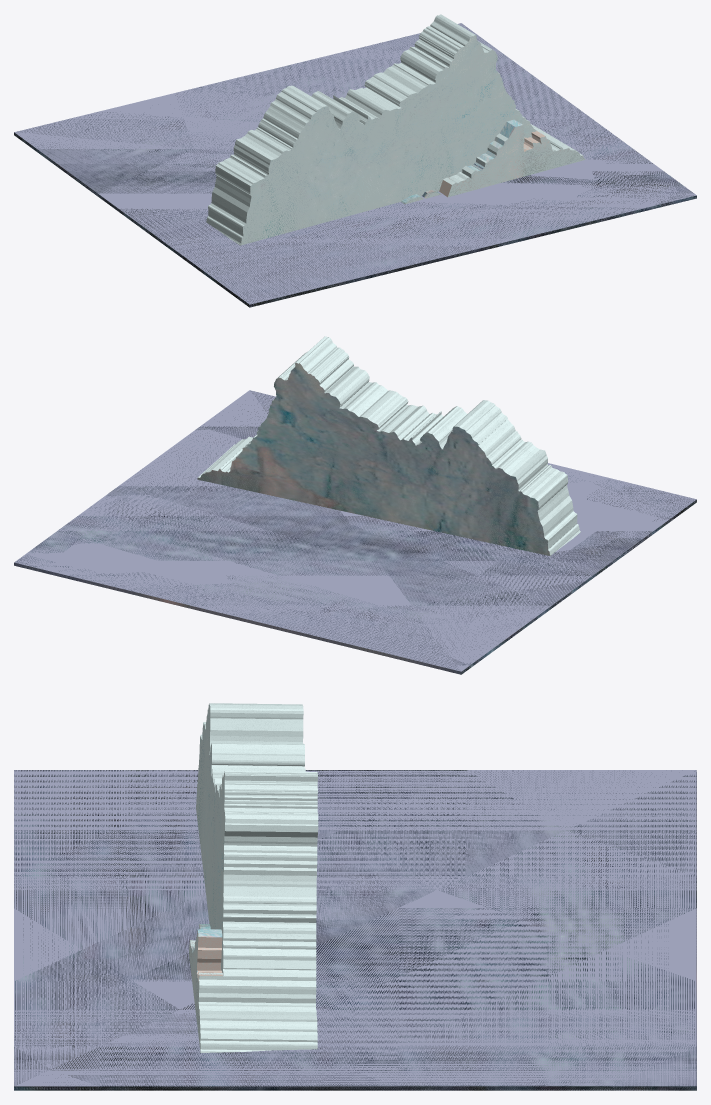
Rendered from iceberg.dae.
3 views of the same model, one above another, from view 1: azimuth 30°, elevation 25°; view 2: azimuth 150°, elevation 25°; view 3: azimuth 270°, elevation 25° (orthographic). The views are drawn at different scales.
Parts seen in each view (by area): view 1: SketchUp, iceberg_start (×2); view 2: SketchUp, iceberg_start (×2); view 3: SketchUp, iceberg_start (×3).
Boxes of the visible parts, bbox=[...] form: SketchUp: bbox=[14, 23, 696, 307]; iceberg_start (×2): bbox=[206, 14, 585, 245]; SketchUp: bbox=[14, 390, 696, 674]; iceberg_start (×2): bbox=[197, 336, 580, 555]; SketchUp: bbox=[14, 770, 696, 1090]; iceberg_start (×3): bbox=[188, 703, 318, 1052].
Bounding box in the file's own units: 686 × 626 × 219.
15 materials, 9 textured.
